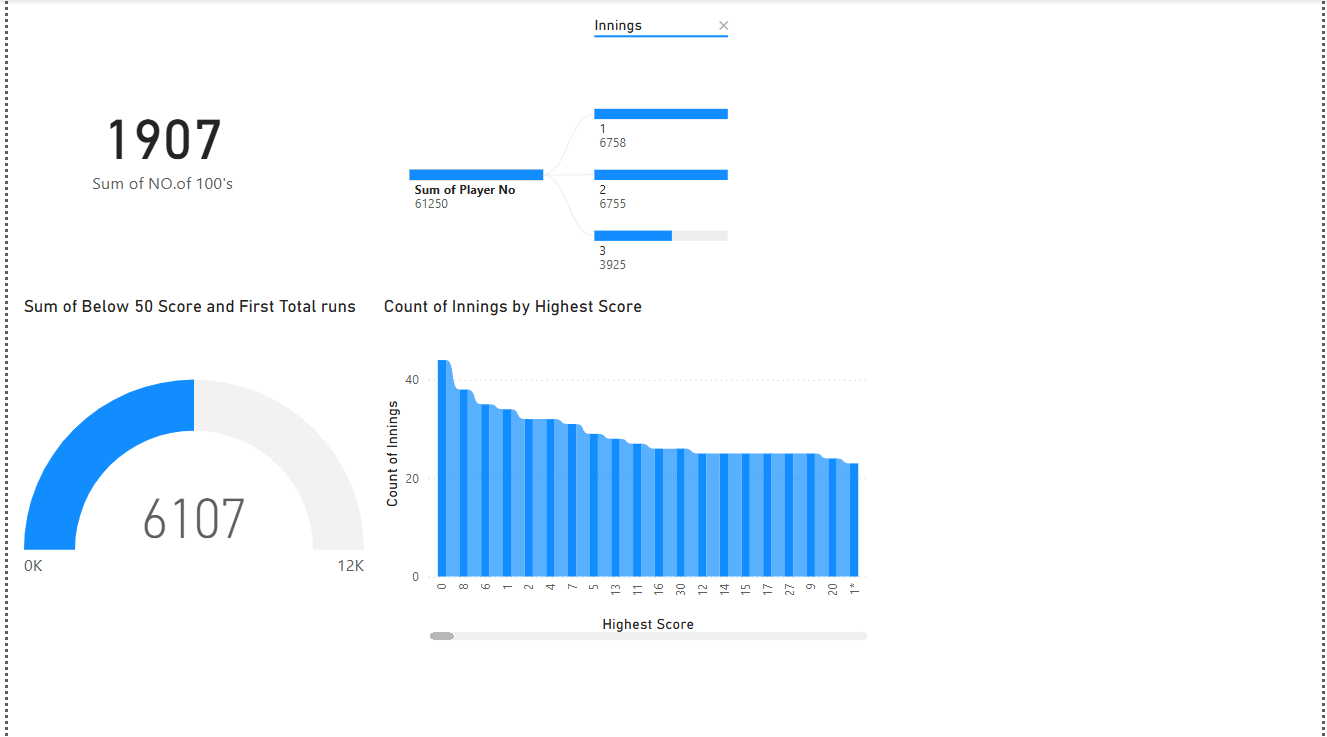

What the dashboard file says about the page in this screenshot:
{"tool":"powerbi","page":{"name":"Page 3","canvas":[1280,720],"ordinal":2},"visuals":[{"type":"card","fields":{"Values":["Sum(ODI data.NO.of 100's)"]},"box":[10,0,280,280],"z":0},{"type":"gauge","fields":{"Y":["Sum(ODI data.Below 50 Score)"]},"box":[10,290,341.4,340],"z":1},{"type":"decompositionTreeVisual","fields":{"Analyze":["Sum(ODI data.Player No)"],"ExplainBy":["ODI data.Innings"]},"box":[361.4,0,481.4,280],"z":2},{"type":"ribbonChart","fields":{"Category":["ODI data.Highest Score"],"Y":["CountNonNull(ODI data.Innings)"]},"box":[361,290,481,340],"z":3}]}

Visuals, with their boxes in screenshot pixels (x1, y1, x2, y2), scaled from the page's 1280x720 canvas onto the 1327x737 screenshot:
card - Sum(ODI data.NO.of 100's): <bbox>10, 0, 301, 287</bbox>
gauge - Sum(ODI data.Below 50 Score): <bbox>10, 297, 364, 645</bbox>
decompositionTreeVisual - Sum(ODI data.Player No) x ODI data.Innings: <bbox>375, 0, 874, 287</bbox>
ribbonChart - ODI data.Highest Score x CountNonNull(ODI data.Innings): <bbox>374, 297, 873, 645</bbox>
